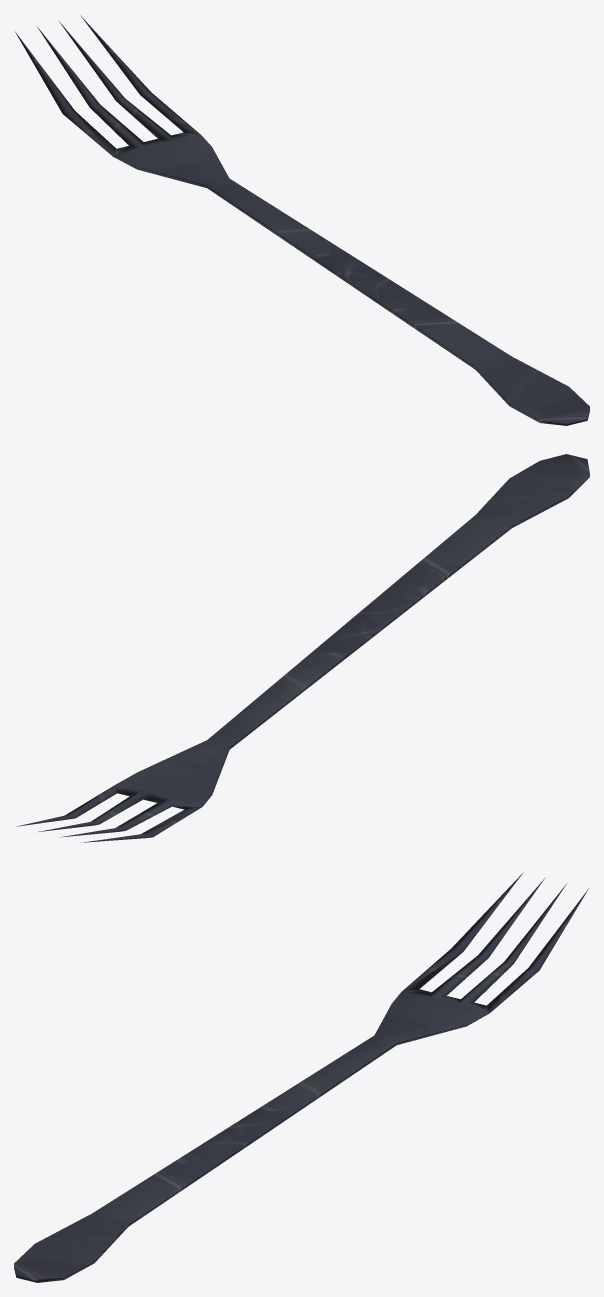
Rendered from Fork.fbx.
The picture shows the model from 3 angles, top to bottom: view 1: azimuth 30°, elevation 25°; view 2: azimuth 150°, elevation 25°; view 3: azimuth 330°, elevation 25°; orthographic projection.
Visible parts, largest first — view 1: Fork; view 2: Fork; view 3: Fork.
Boxes of the visible parts, x1=… form: Fork: x1=15, y1=15, x2=589, y2=425; Fork: x1=16, y1=454, x2=589, y2=842; Fork: x1=14, y1=872, x2=588, y2=1282.
Size of the model in its own units: 0.0412 by 0.0198 by 0.4265.
